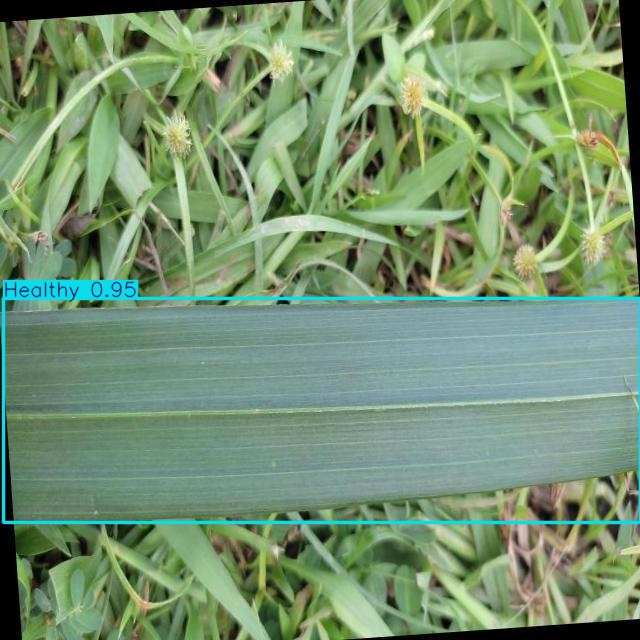Healthy: (3, 299, 640, 522)
